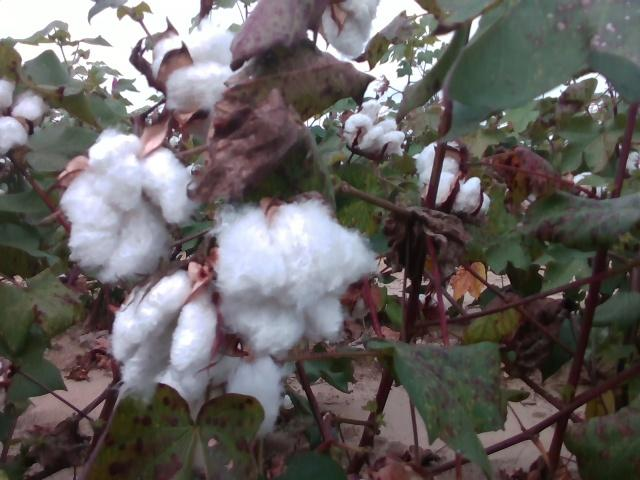cotton_ready: (216, 199, 381, 351), (61, 132, 200, 280), (114, 348, 287, 431), (111, 270, 218, 390), (150, 29, 245, 113), (0, 76, 45, 153)
